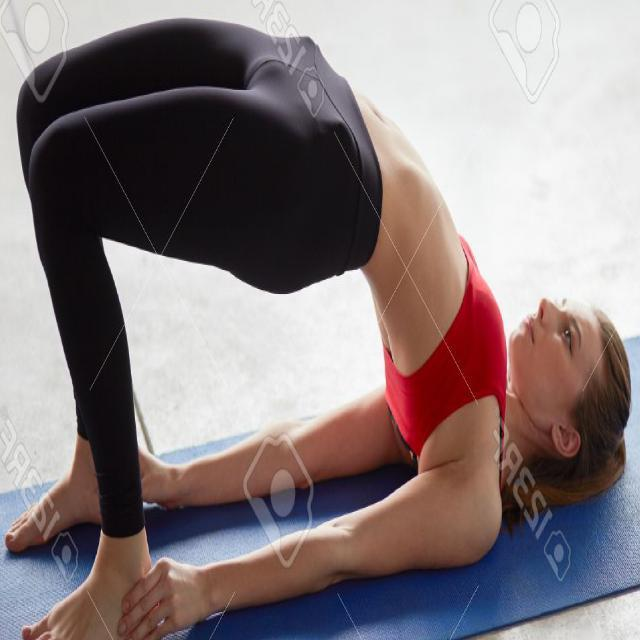yoga-pose bridge: (17, 22, 627, 632)
